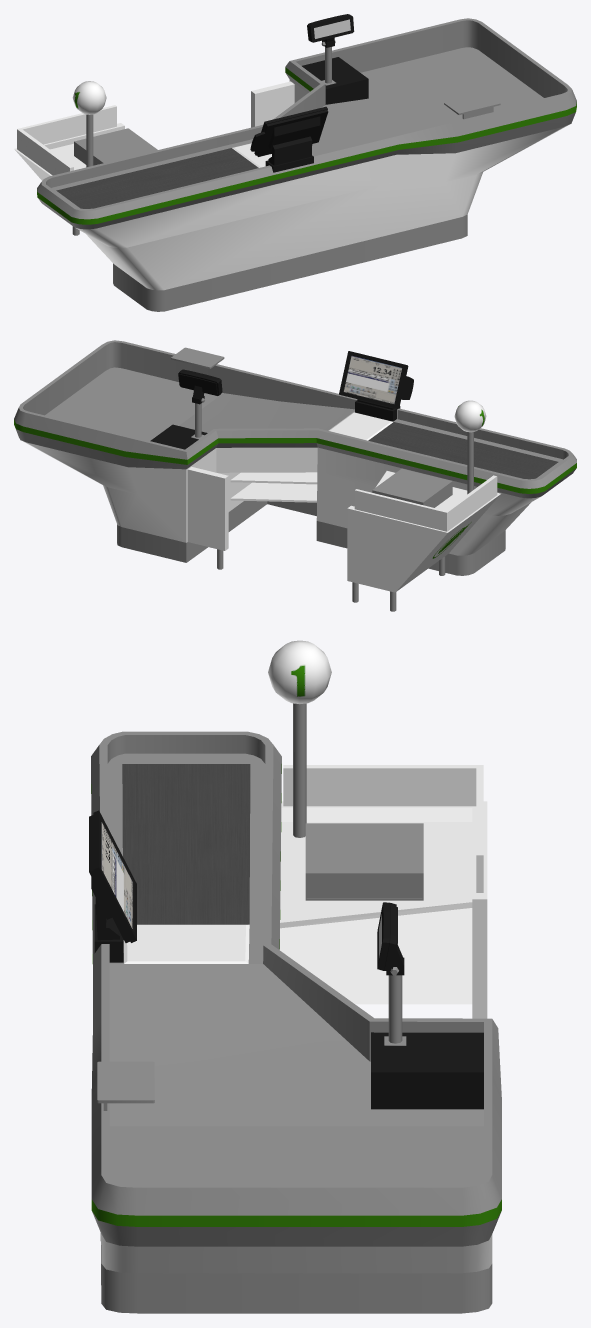
Rendered from cash_register.FBX.
The picture shows the model from 3 angles, top to bottom: view 1: azimuth 30°, elevation 25°; view 2: azimuth 150°, elevation 25°; view 3: azimuth 270°, elevation 25°; orthographic projection. The views are drawn at different scales.
Visible parts, largest first — view 1: GMarket_cash_register_001; view 2: GMarket_cash_register_001; view 3: GMarket_cash_register_001.
Part boxes in pixels (x1=…): GMarket_cash_register_001: x1=14, y1=14, x2=576, y2=311; GMarket_cash_register_001: x1=14, y1=340, x2=576, y2=611; GMarket_cash_register_001: x1=89, y1=640, x2=501, y2=1313.
Size of the model in its own units: 4.25 by 1.57 by 1.6.
